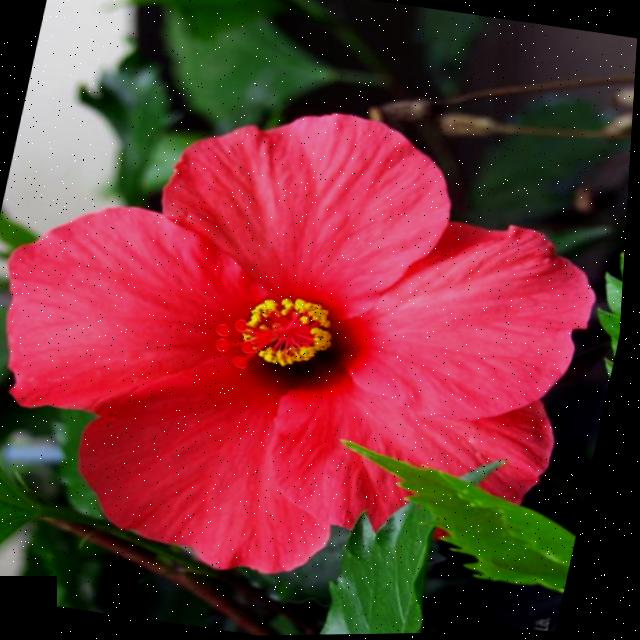hibiscus: (0, 44, 638, 630)
